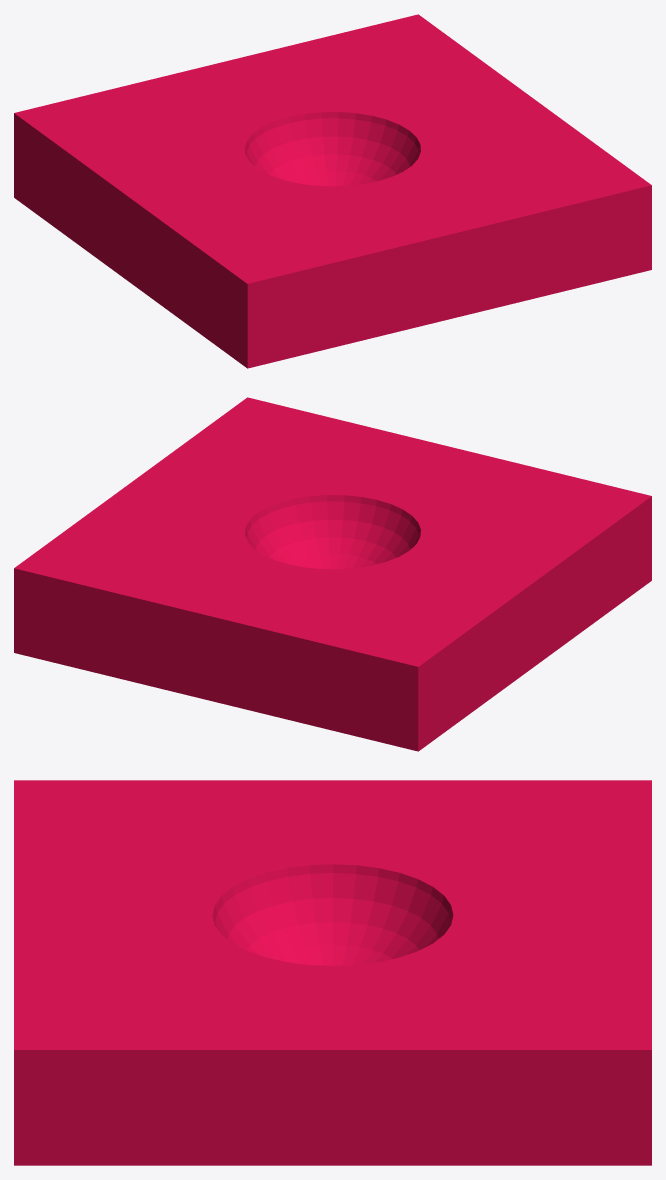
File: dip.glb
The picture shows the model from 3 angles, top to bottom: view 1: azimuth 30°, elevation 25°; view 2: azimuth 150°, elevation 25°; view 3: azimuth 270°, elevation 25°; orthographic projection. The views are drawn at different scales.
Parts seen in each view (by area): view 1: Cube; view 2: Cube; view 3: Cube.
Boxes of the visible parts, left/top/right/bottom form: Cube: left=14, top=14, right=651, bottom=368; Cube: left=14, top=397, right=651, bottom=751; Cube: left=14, top=780, right=651, bottom=1165.
Size of the model in its own units: 5 by 1 by 5.
